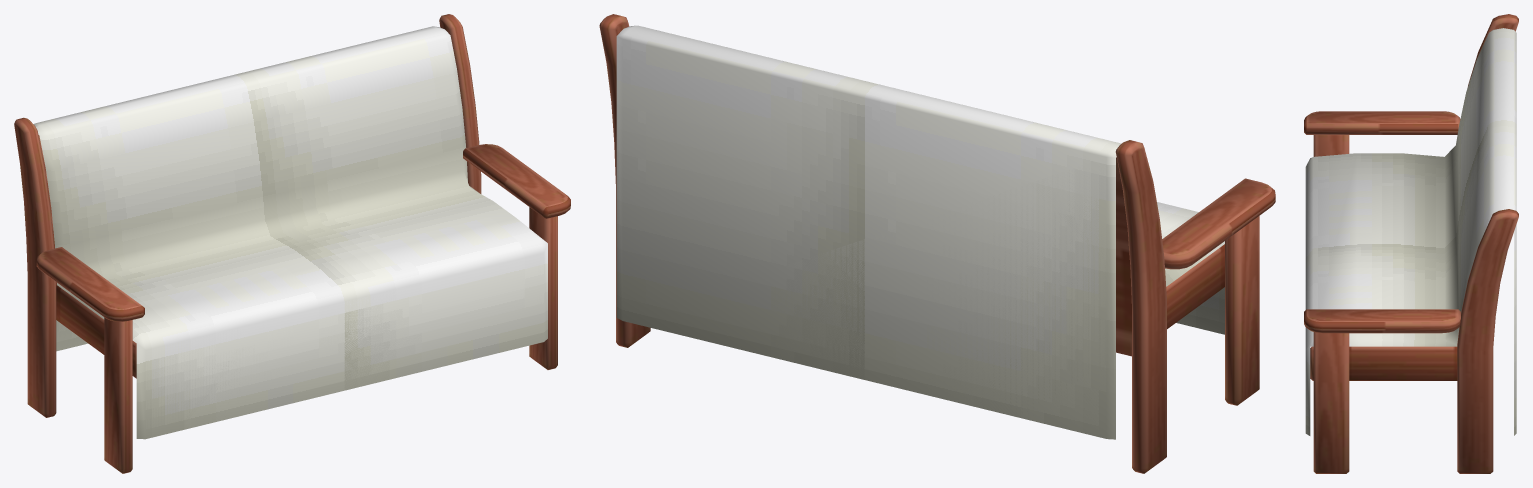
The model's file is rmk_scd_chairL uv fix.dae.
The picture shows the model from 3 angles, left to right: view 1: azimuth 30°, elevation 25°; view 2: azimuth 150°, elevation 25°; view 3: azimuth 270°, elevation 25°; orthographic projection. The views are drawn at different scales.
Parts seen in each view (by area): view 1: vsn_mesh_1_.1, vsn_mesh_0_; view 2: vsn_mesh_1_.1, vsn_mesh_0_; view 3: vsn_mesh_1_.1, vsn_mesh_0_.
Part boxes in pixels (x1,y1,x2,y2): vsn_mesh_1_.1: (33, 26, 547, 439); vsn_mesh_0_: (14, 14, 570, 473); vsn_mesh_1_.1: (616, 25, 1224, 439); vsn_mesh_0_: (599, 14, 1275, 473); vsn_mesh_1_.1: (1305, 28, 1516, 435); vsn_mesh_0_: (1304, 14, 1518, 473).
Size of the model in its own units: 56 by 32.04 by 23.84.
Materials: 3 (3 with a texture image).
